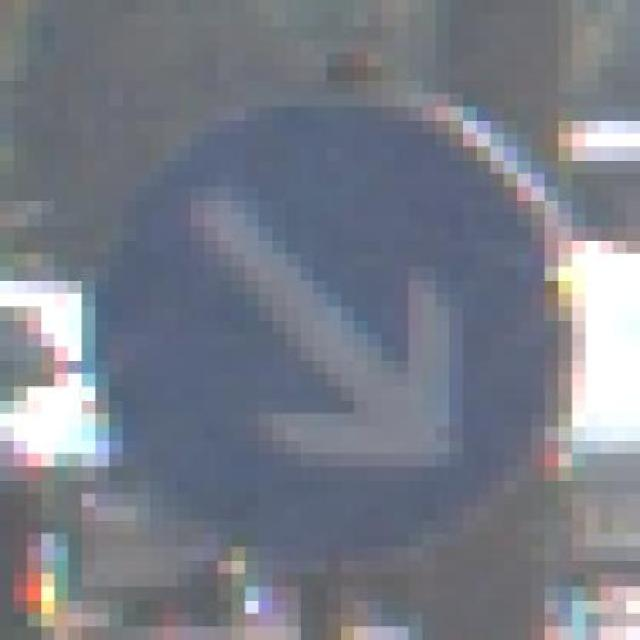Keep-Right: (68, 80, 586, 560)
